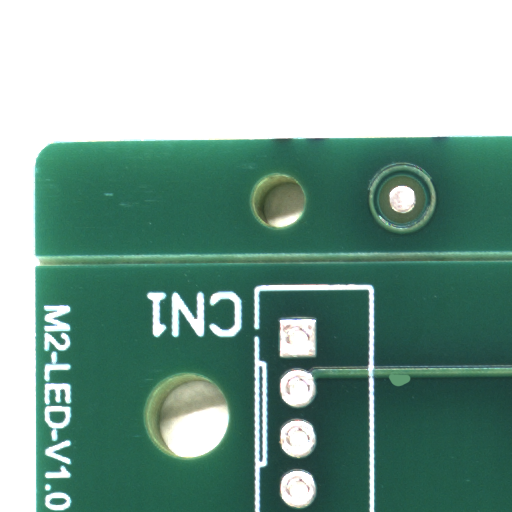Spur: (399, 380, 424, 393)
